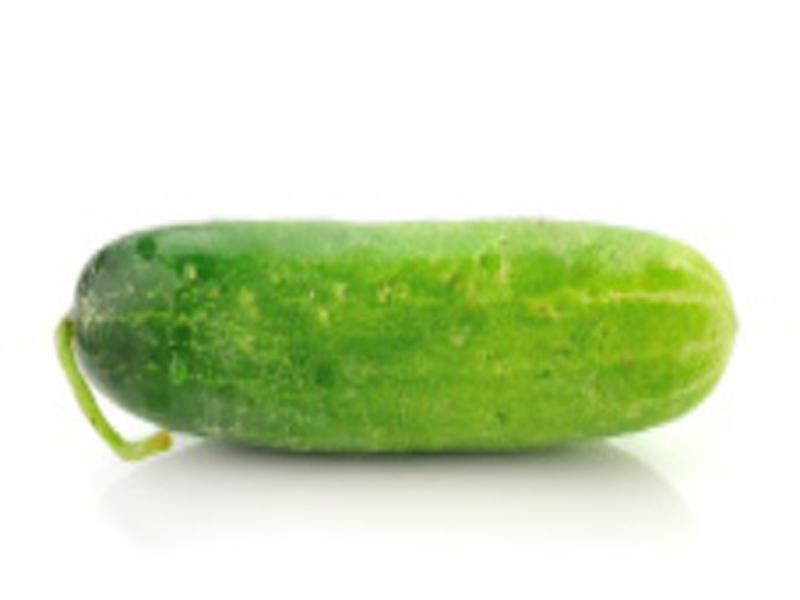Cucumber: (60, 219, 744, 460)
